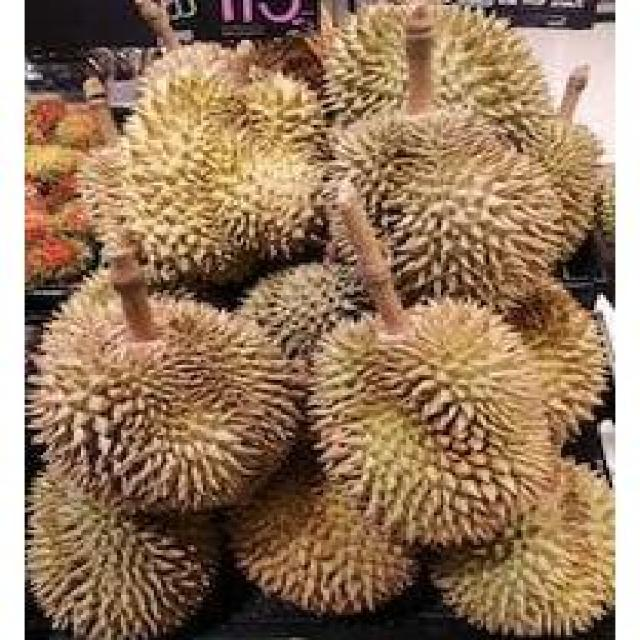fruit: (277, 280, 612, 640), (16, 280, 336, 638), (302, 3, 612, 335), (58, 18, 354, 330)
